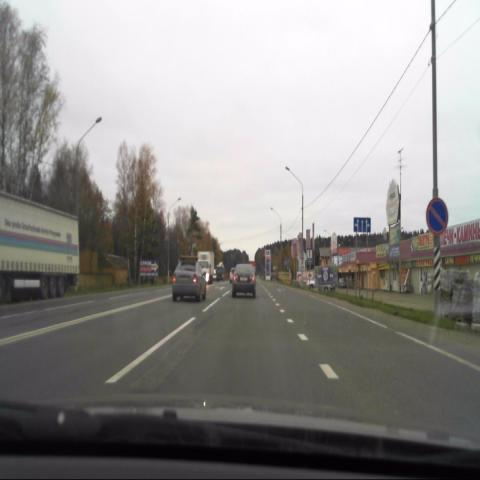3_28: (426, 198, 448, 236)
